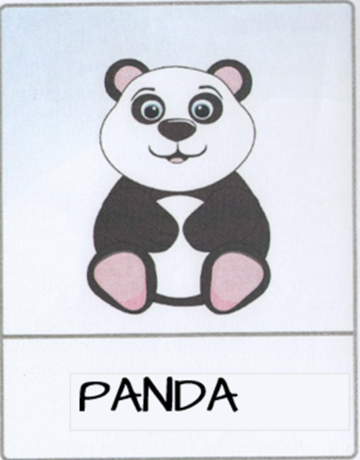panda: (30, 21, 339, 438)
